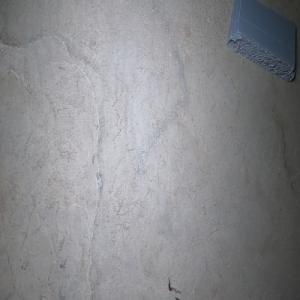PlasticPart: (226, 0, 296, 83)
